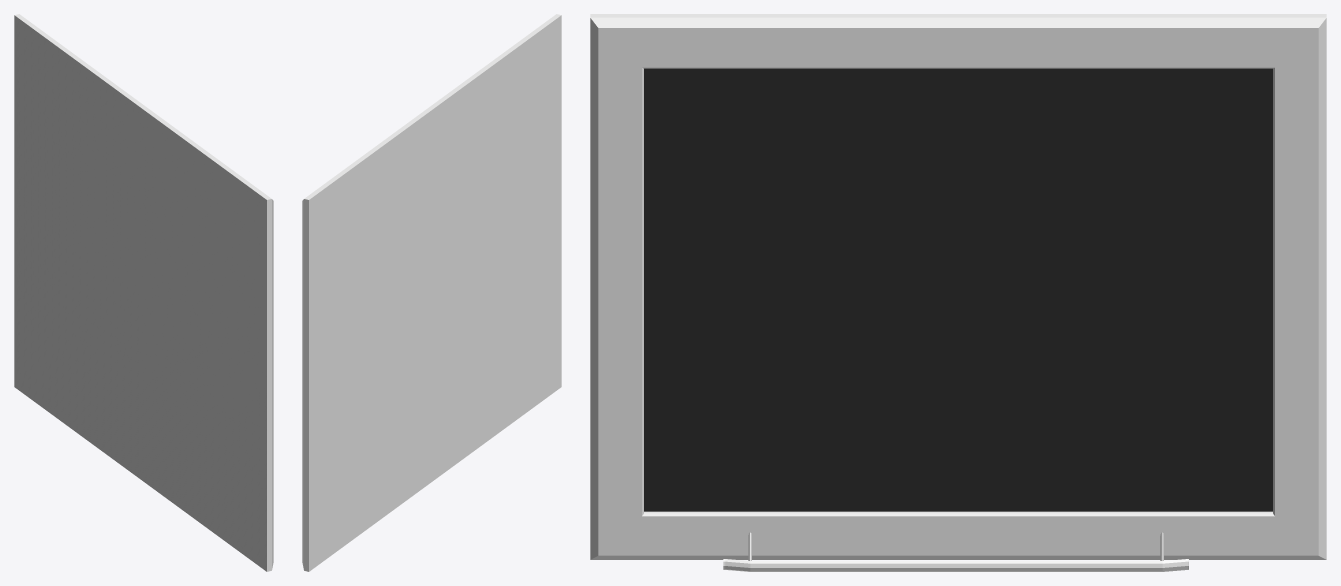
File: Cabinet_19b27166.obj
3 renders of one model, left to right at view 1: azimuth 30°, elevation 25°; view 2: azimuth 150°, elevation 25°; view 3: azimuth 270°, elevation 25°, orthographic. The views are drawn at different scales.
Visible parts, largest first — view 1: CabinetDoorMesh_d2a92307; view 2: CabinetDoorMesh_d2a92307; view 3: CabinetDoorMesh_d2a92307.
Boxes of the visible parts, x1,y1,x2,y2 form: CabinetDoorMesh_d2a92307: (14,14,273,571); CabinetDoorMesh_d2a92307: (302,14,561,571); CabinetDoorMesh_d2a92307: (590,14,1326,571).
Bounding box in the file's own units: 0.0977 × 0.6404 × 0.7881.
